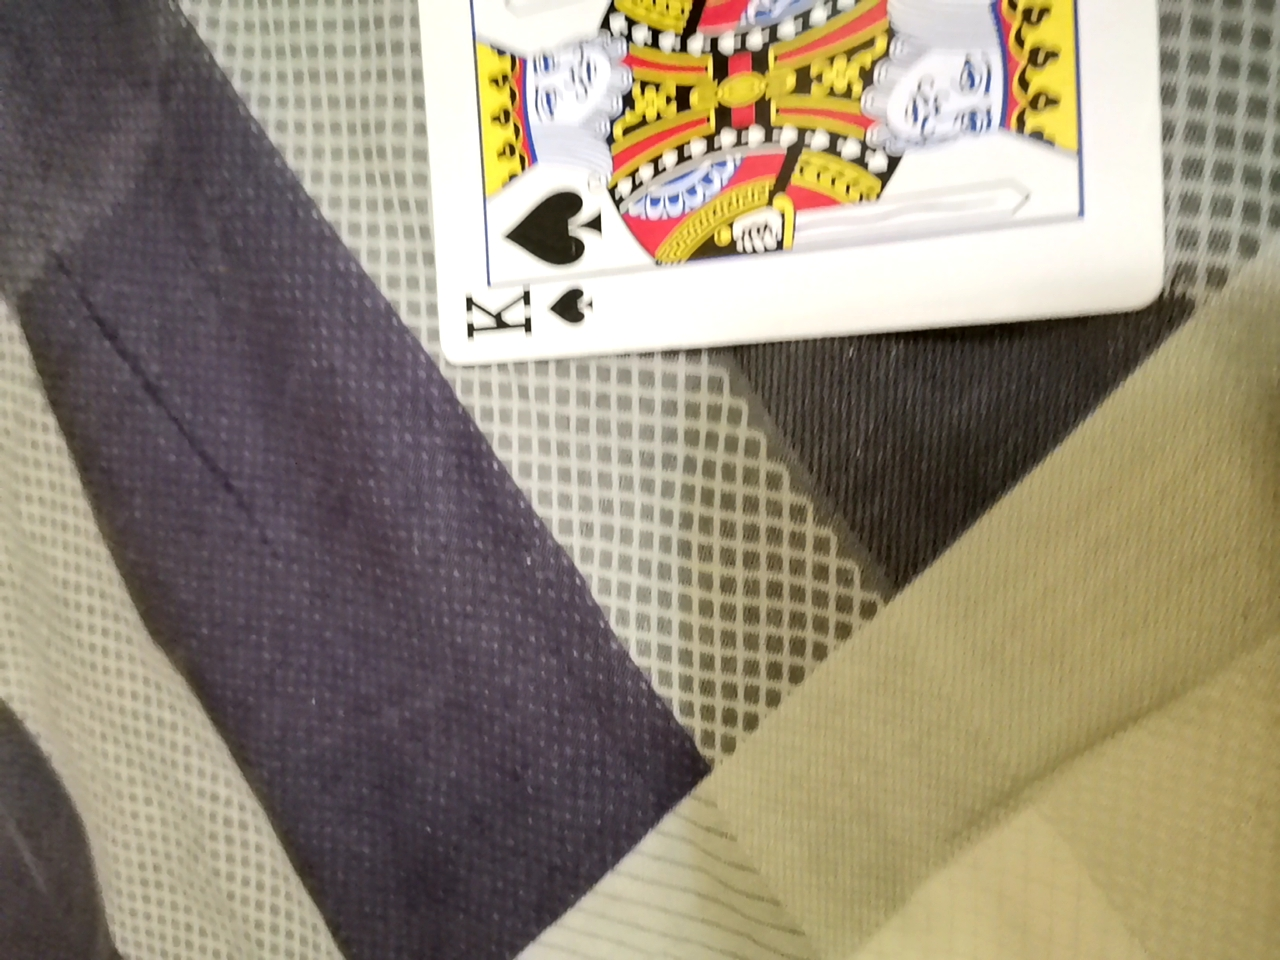ht k: (389, 0, 1171, 335)
